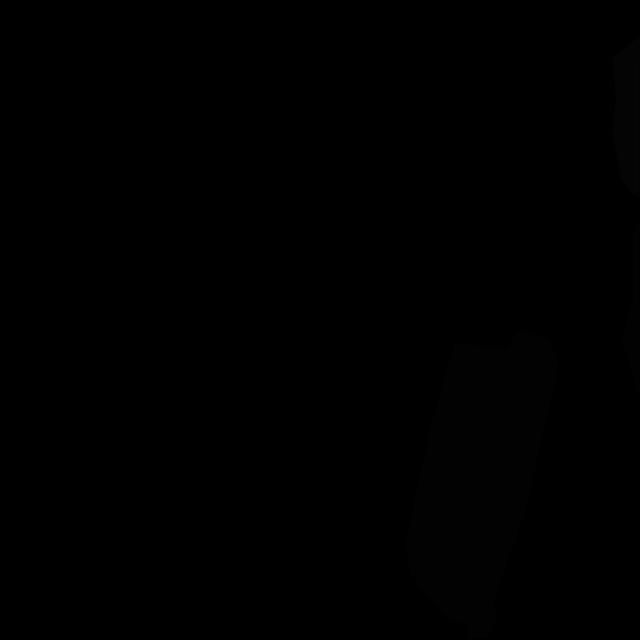cardboard: (406, 331, 558, 638), (622, 221, 640, 396)
soft_plastic: (612, 37, 640, 197)
